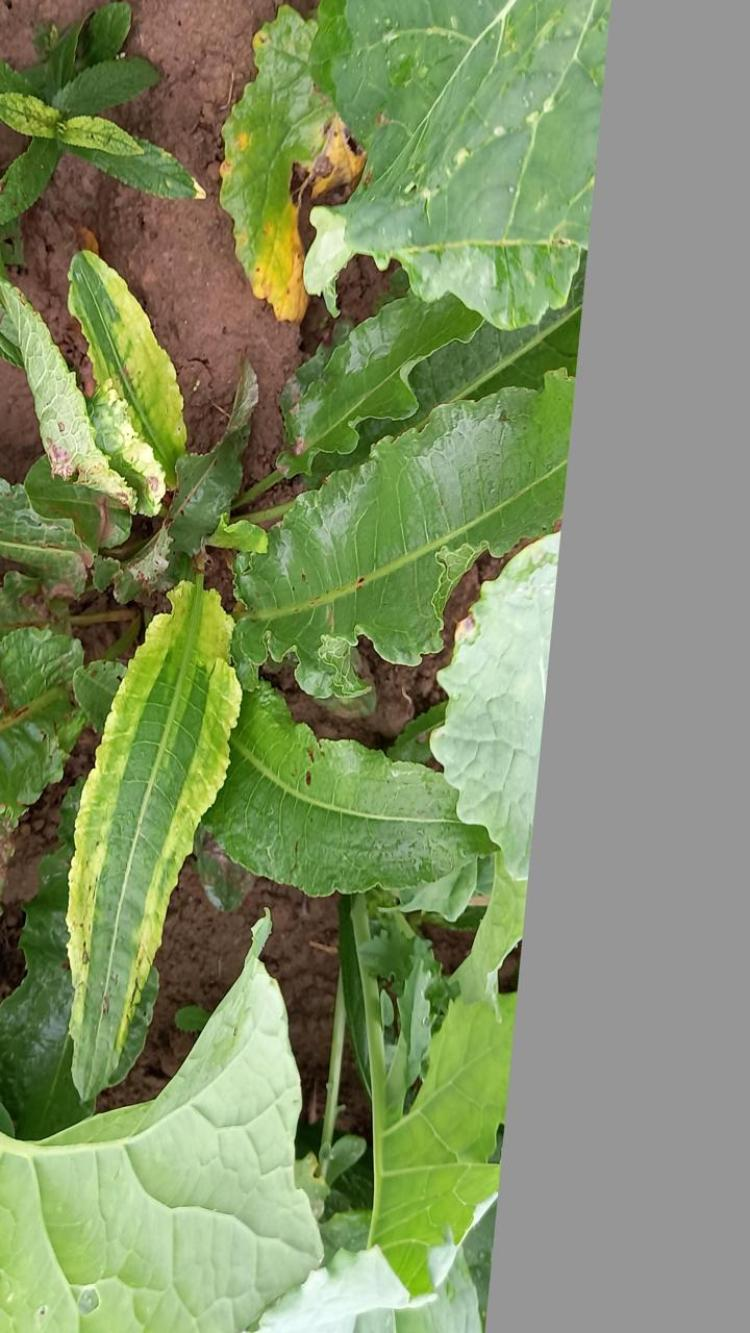zhavel: (0, 248, 588, 1106)
